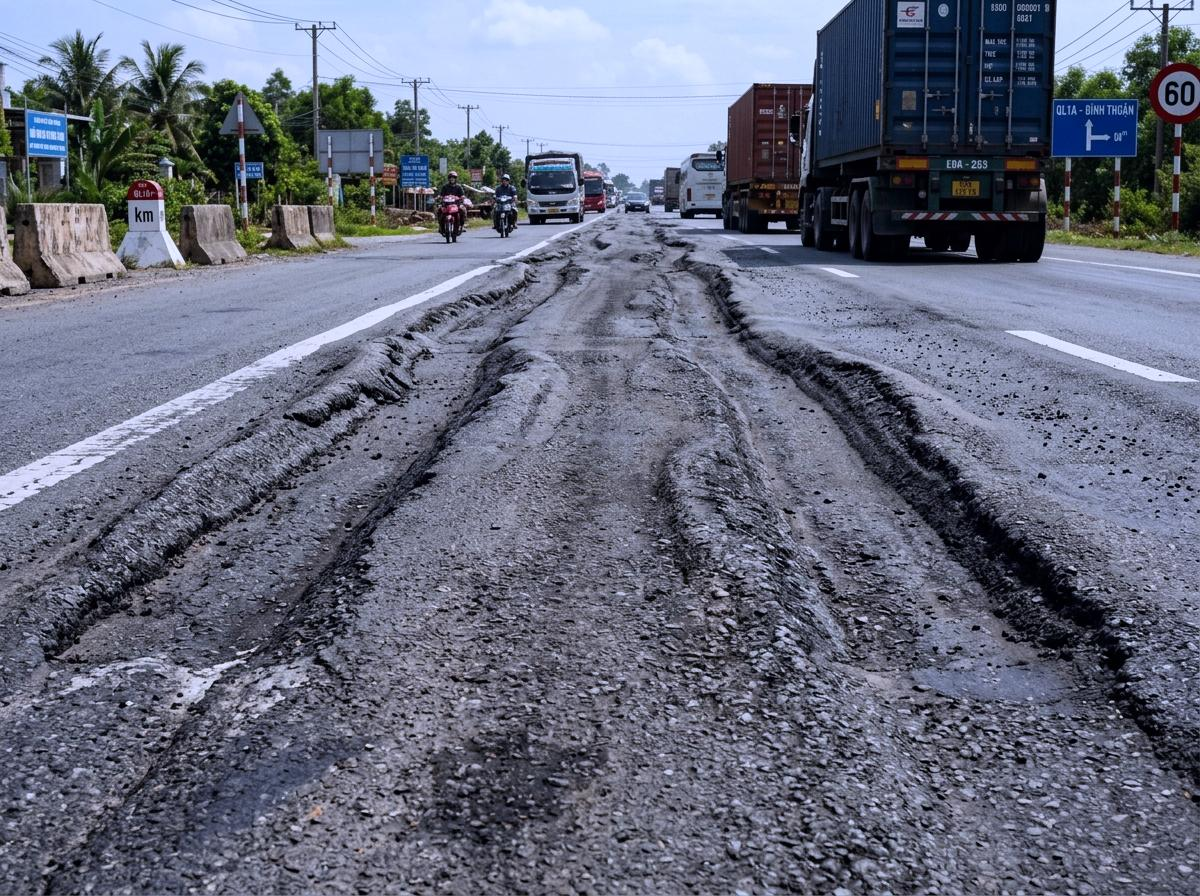POTHOLE: (228, 390, 612, 793), (636, 390, 996, 775)
